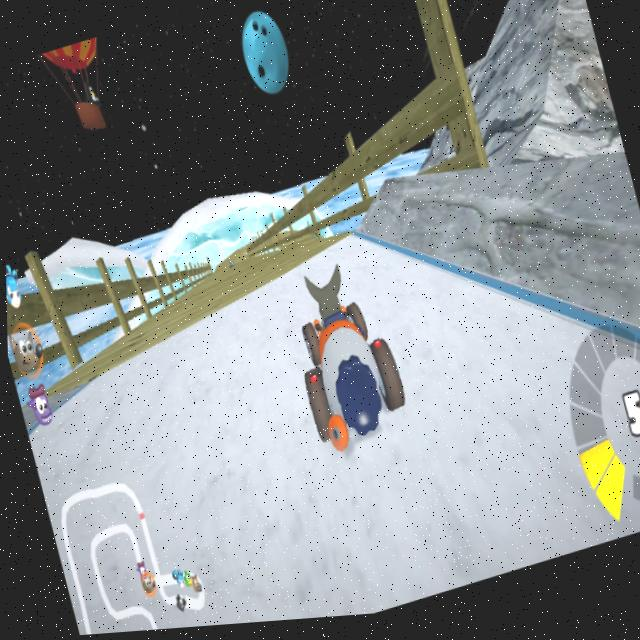player_kart: (268, 259, 414, 464)
track: (158, 265, 320, 552)
